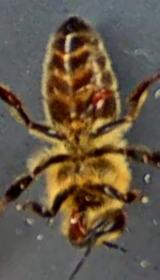varroa_mite: (76, 78, 126, 117)
